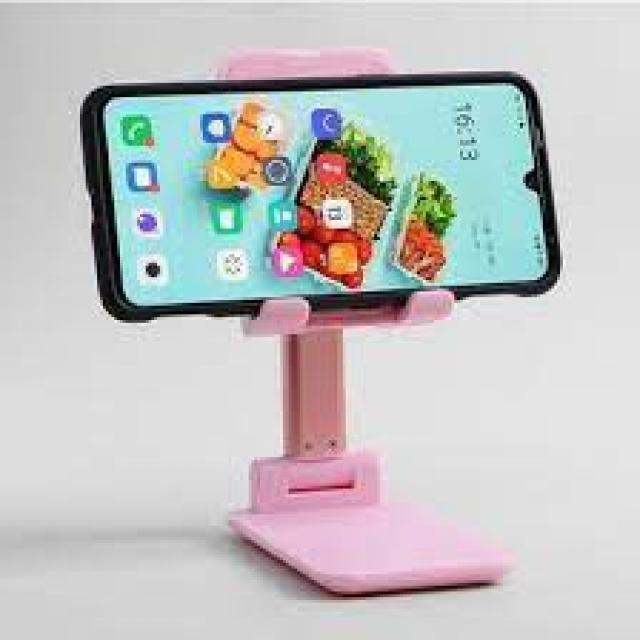Phone: (73, 64, 564, 332)
